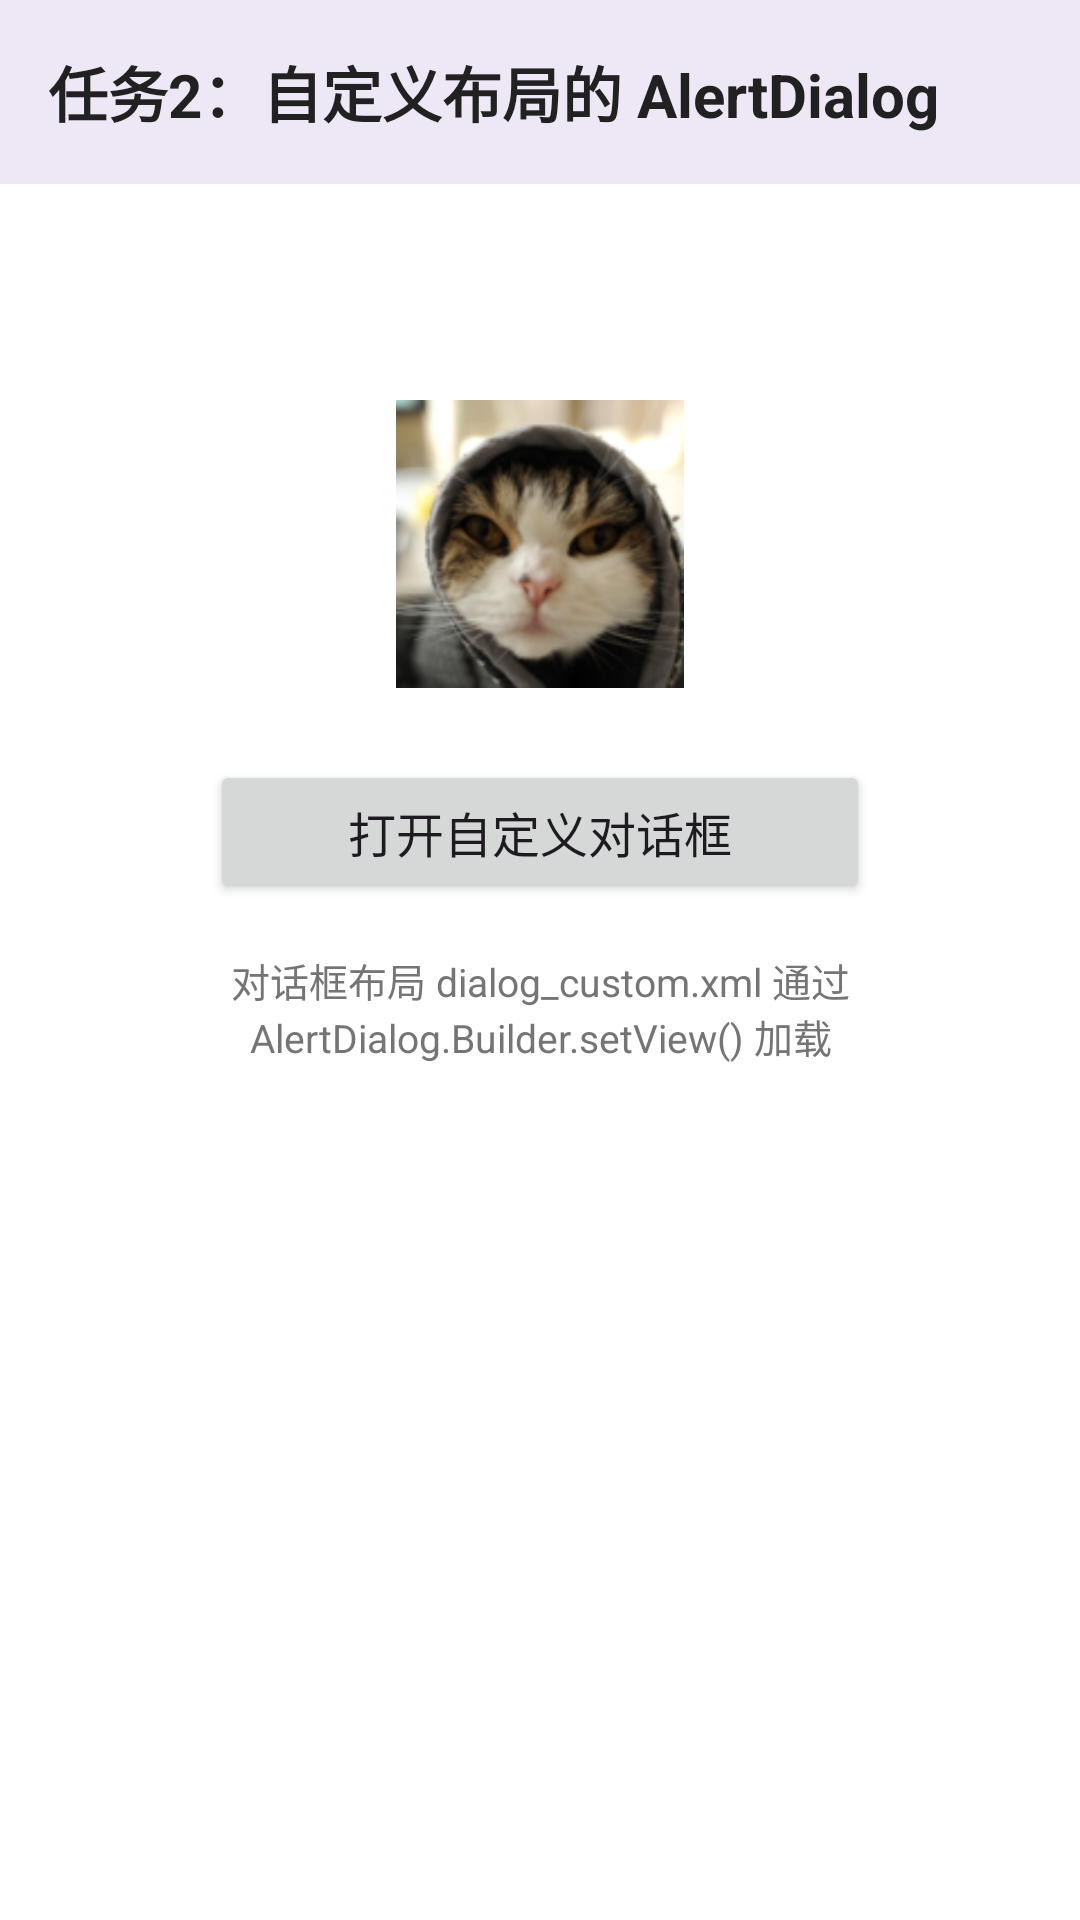

Icon click points for this 1080x1920 phone screenshot, format [x,y]:
cat: [540,544]
